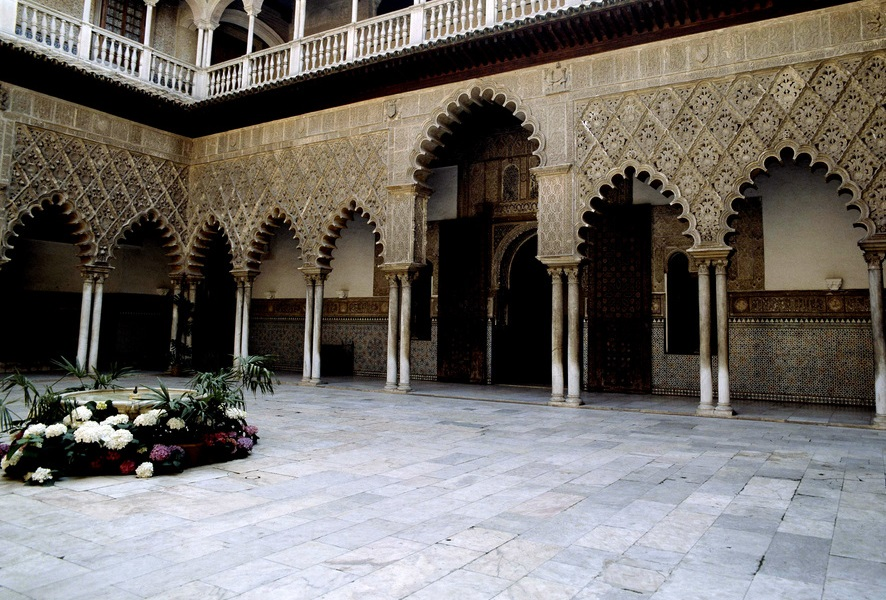arco-lobulado: (714, 137, 877, 259), (409, 83, 546, 187), (572, 159, 701, 264), (1, 185, 95, 281), (97, 203, 185, 286), (314, 196, 396, 283), (241, 201, 315, 287), (186, 206, 245, 287)
